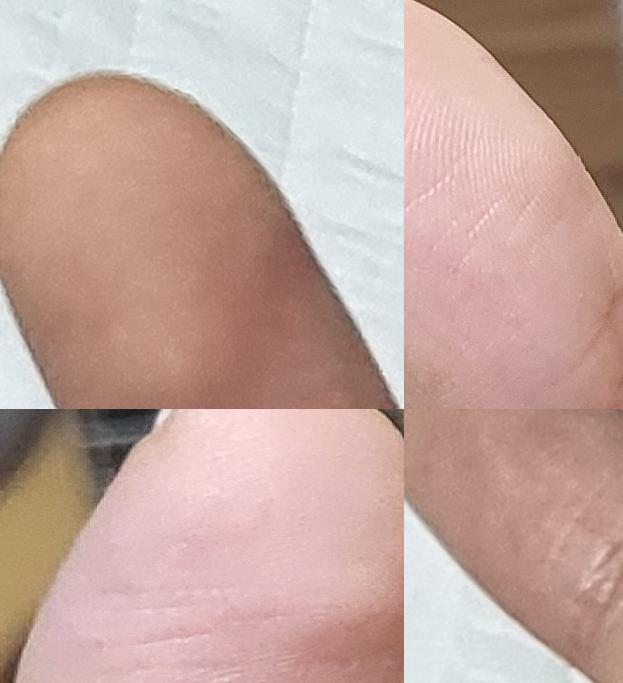Fingerprints: (0, 70, 398, 409), (14, 409, 404, 682), (404, 0, 623, 409), (404, 409, 623, 667)
